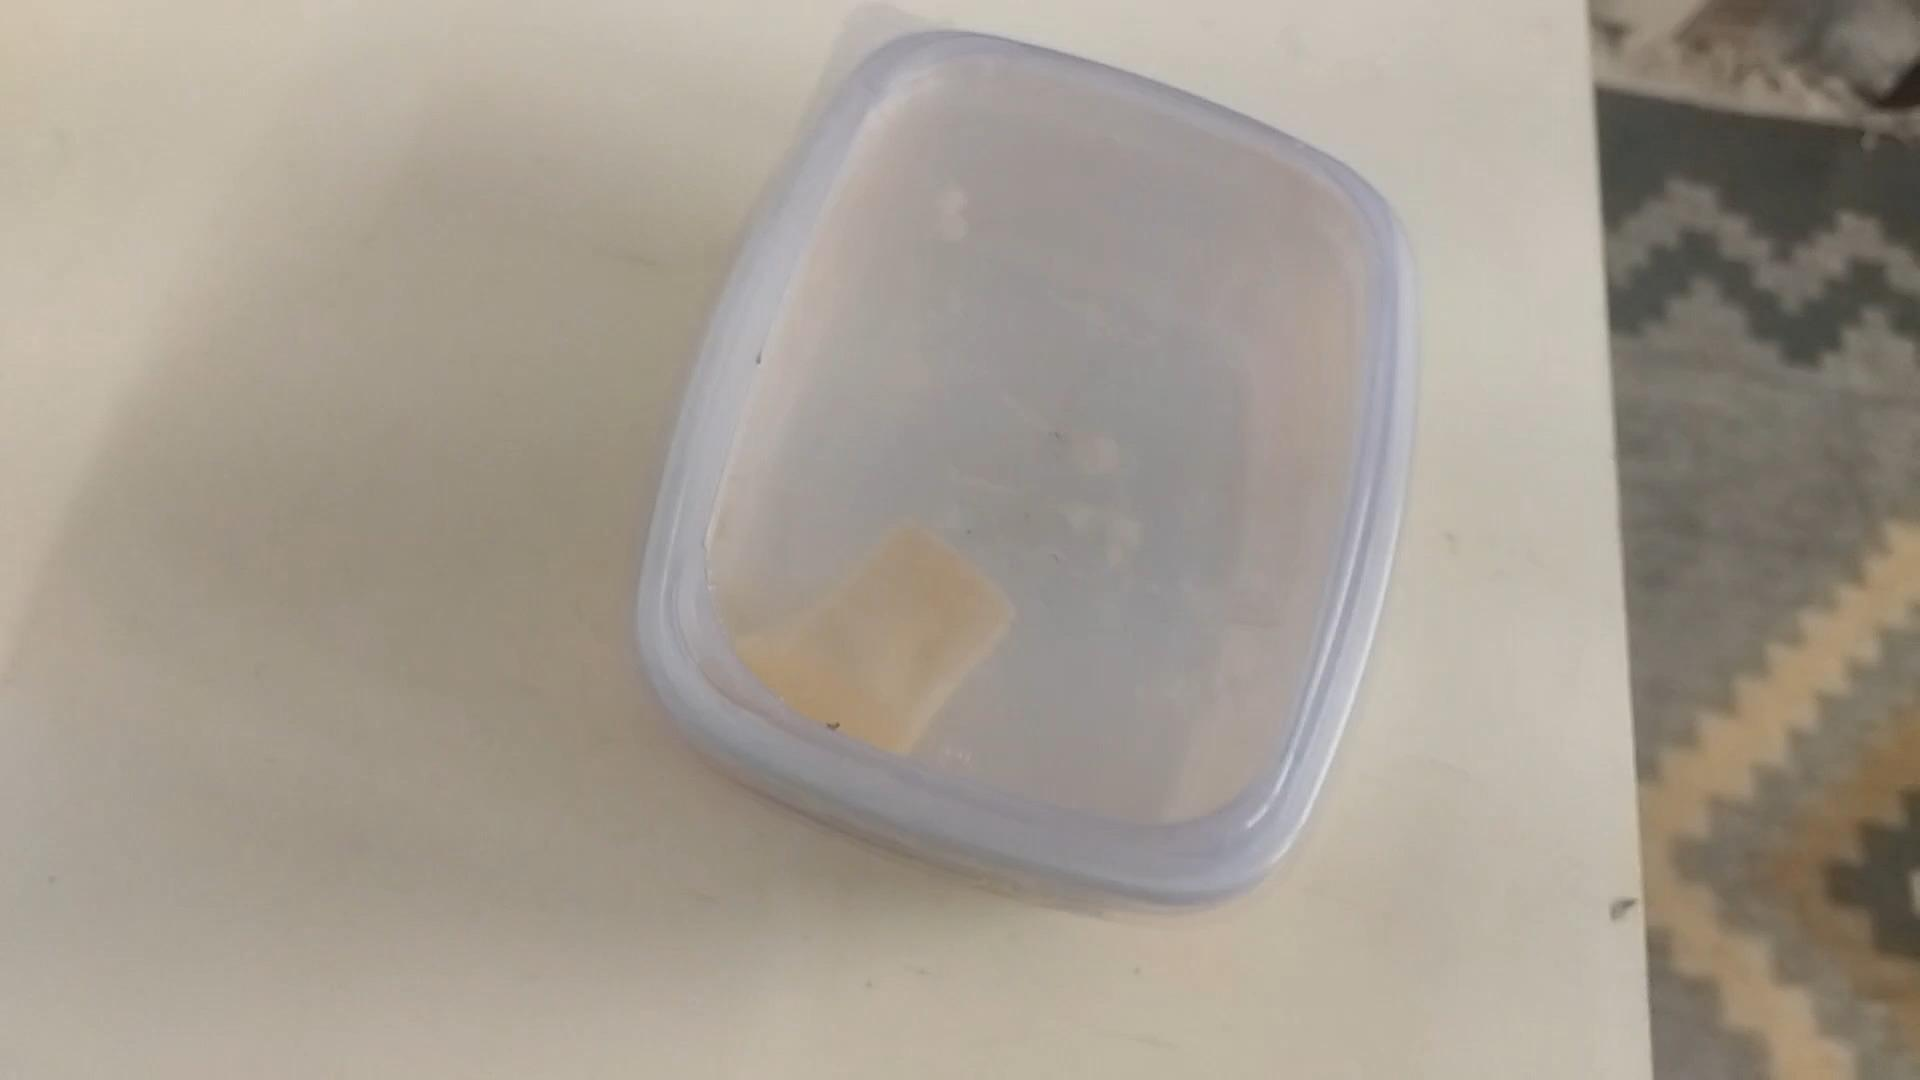butter: (633, 32, 1403, 918)
